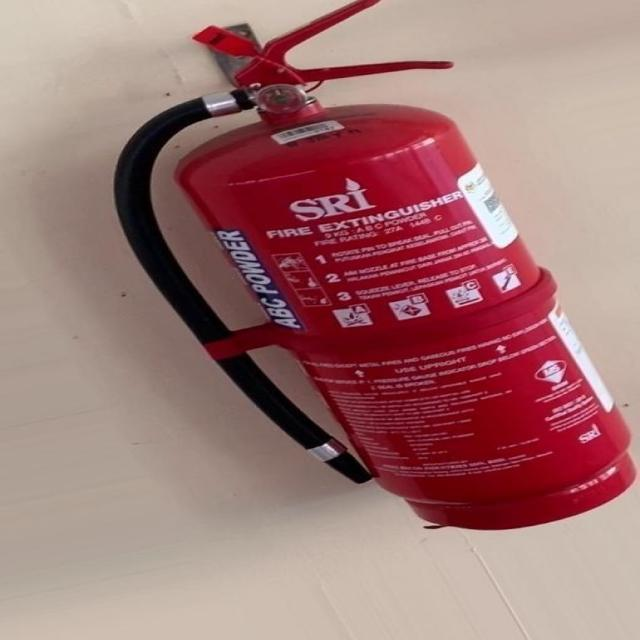fire_extinguisher: (104, 0, 639, 533)
